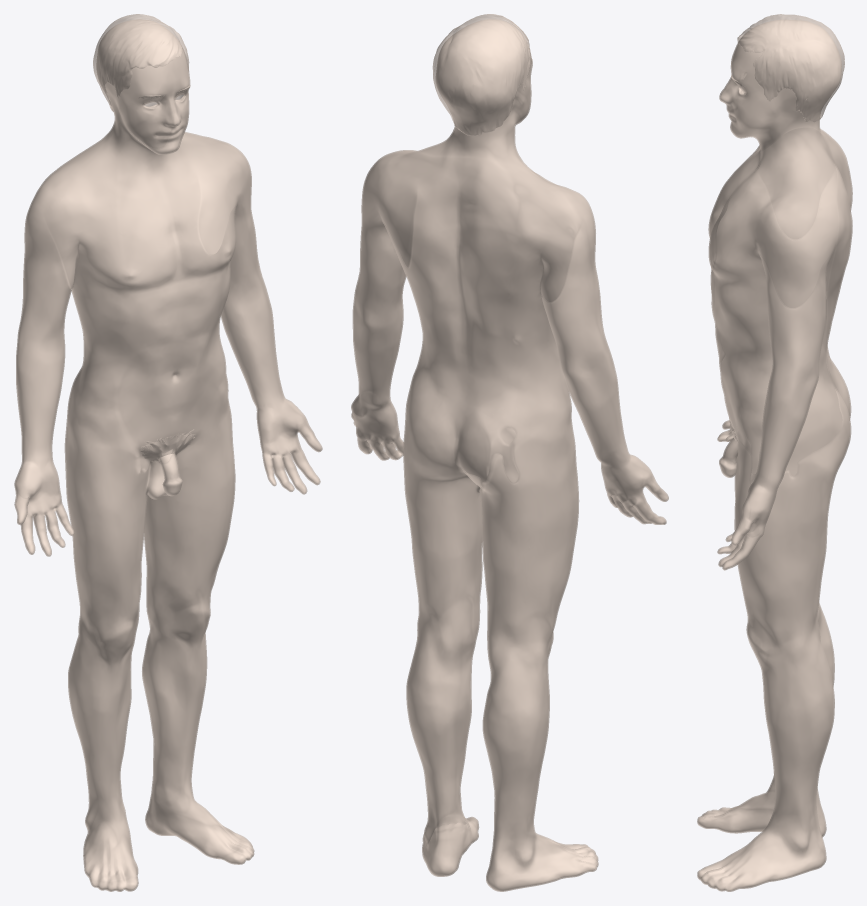
The model's file is integumentary.glb.
3 views of the same model, side by side, from view 1: azimuth 30°, elevation 25°; view 2: azimuth 150°, elevation 25°; view 3: azimuth 270°, elevation 25° (orthographic). The views are drawn at different scales.
Parts seen in each view (by area): view 1: FMA7163_Skin, FMA54241_Hair_of_head, FMA54319_Pubic_hair; view 2: FMA7163_Skin, FMA54241_Hair_of_head; view 3: FMA7163_Skin, FMA54241_Hair_of_head.
Part boxes in pixels (left/top/right/bottom): FMA7163_Skin: left=14, top=19, right=322, bottom=891; FMA54241_Hair_of_head: left=93, top=14, right=189, bottom=111; FMA54319_Pubic_hair: left=140, top=429, right=195, bottom=461; FMA7163_Skin: left=351, top=19, right=668, bottom=891; FMA54241_Hair_of_head: left=432, top=14, right=530, bottom=135; FMA7163_Skin: left=697, top=20, right=852, bottom=891; FMA54241_Hair_of_head: left=737, top=14, right=844, bottom=122.
Bounding box in the file's own units: 0.6669 × 1.73 × 0.292.
